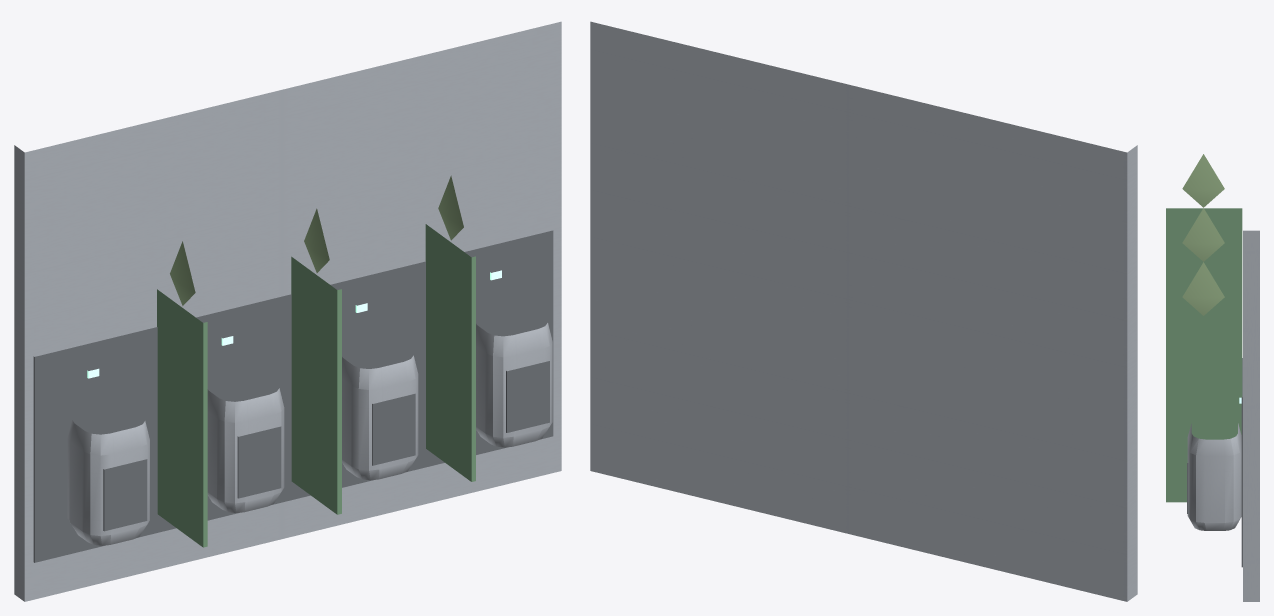
Rendered from tt_restroom_urinal.glb.
3 views of the same model, side by side, from view 1: azimuth 30°, elevation 25°; view 2: azimuth 150°, elevation 25°; view 3: azimuth 270°, elevation 25° (orthographic). The views are drawn at different scales.
Visible parts, largest first — view 1: Wet_Wall, Splash_Panel, Privacy_Screens, Urinal, Urinal_Bowl, Leaf_Crests; view 2: Wet_Wall; view 3: Privacy_Screens, Wet_Wall, Urinal, Leaf_Crests, Splash_Panel.
Part boxes in pixels (left/top/right/bottom): Wet_Wall: left=14, top=21, right=561, bottom=601; Splash_Panel: left=33, top=230, right=553, bottom=562; Privacy_Screens: left=157, top=224, right=475, bottom=547; Urinal: left=67, top=323, right=552, bottom=545; Urinal_Bowl: left=103, top=361, right=549, bottom=531; Leaf_Crests: left=170, top=175, right=463, bottom=305; Wet_Wall: left=590, top=21, right=1137, bottom=601; Privacy_Screens: left=1166, top=208, right=1242, bottom=502; Wet_Wall: left=1243, top=230, right=1259, bottom=601; Urinal: left=1187, top=423, right=1241, bottom=530; Leaf_Crests: left=1182, top=154, right=1224, bottom=315; Splash_Panel: left=1241, top=358, right=1242, bottom=567.
Bounding box in the file's own units: 3 × 2.4 × 0.55.
5 materials, 1 textured.
